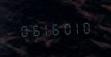one: (39, 20, 49, 37), (72, 19, 82, 35)
six: (28, 21, 38, 37), (50, 20, 60, 36)
zero: (17, 21, 27, 38), (61, 19, 71, 36), (83, 18, 93, 34)
